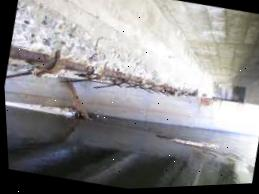exposed_rebar: (9, 45, 197, 96)
spalling: (6, 0, 197, 96)
